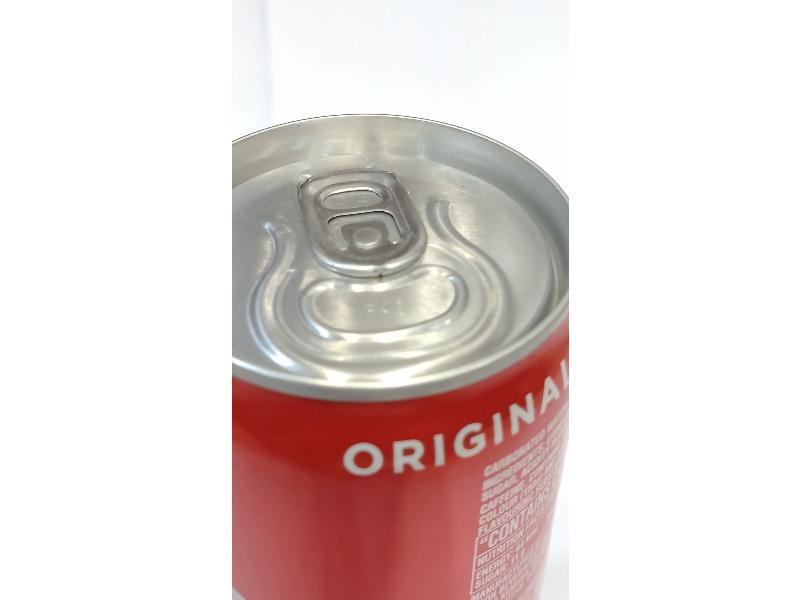can: (226, 95, 571, 600)
